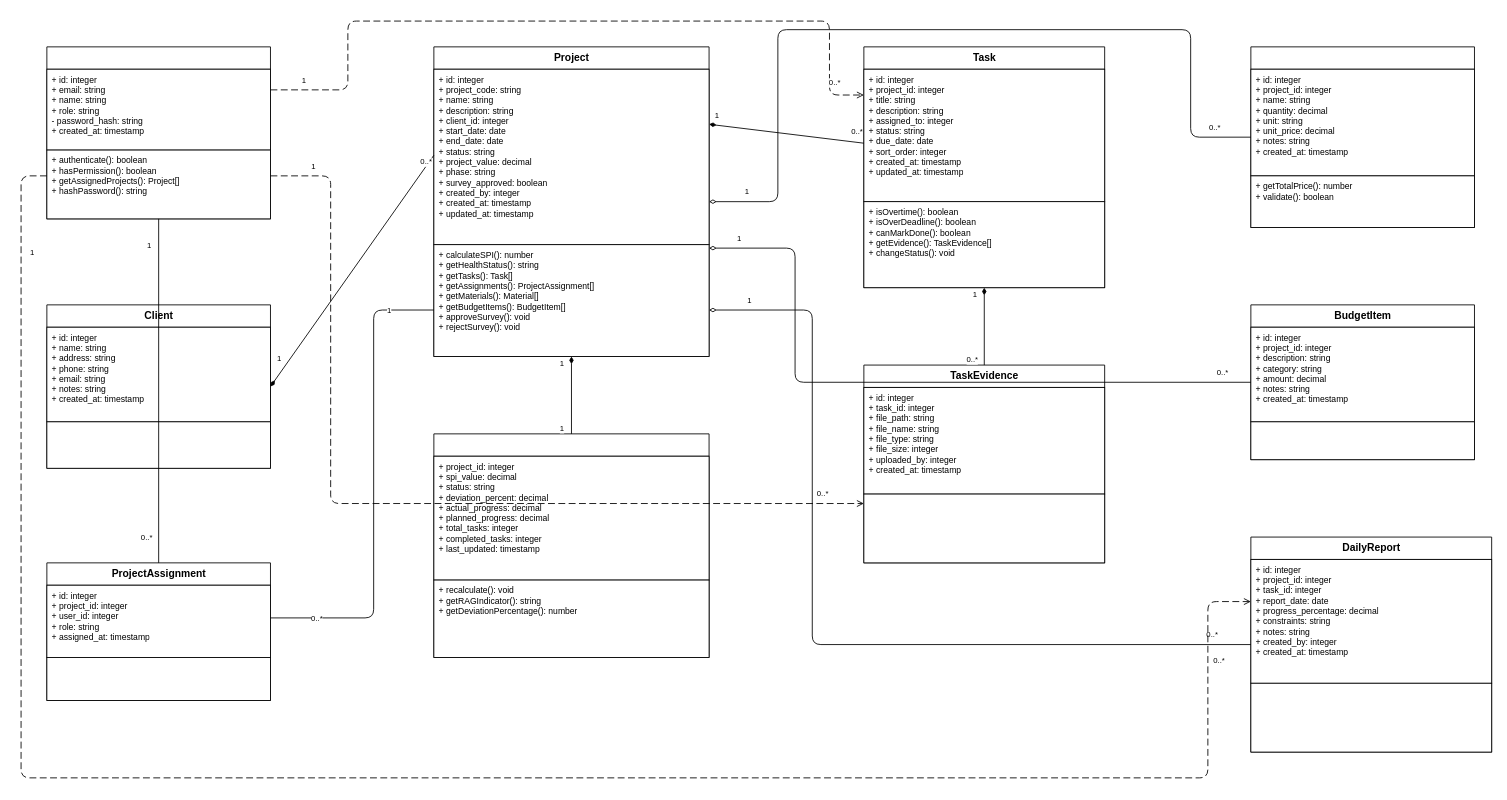
This 1507x800 diagram has some shape labels left out. Each missing label, with the box of its shape:
+ assign(): void + unassign(): void: (46, 657, 270, 700)
+ getProjects(): Project[] + validate(): boolean: (46, 421, 270, 468)
+ upload(): void + download(): Buffer + delete(): void + validate(): boolean: (863, 493, 1105, 563)
+ validate(): boolean: (1250, 421, 1474, 460)
+ validate(): boolean + triggerSPICalculation(): void: (1250, 682, 1492, 752)
Material: (1250, 46, 1474, 227)
ProjectHealth: (433, 433, 709, 657)
User: (46, 46, 270, 219)
